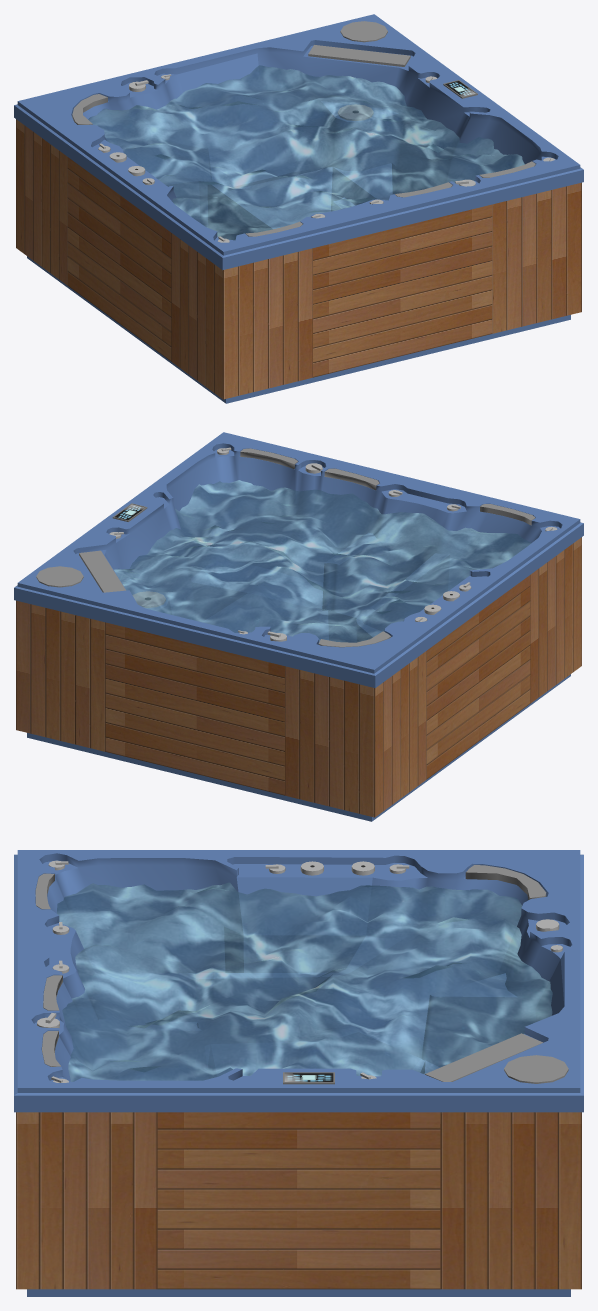
The model's file is sweethome3d-scopia-jacuzzi-158.glb.
3 renders of one model, top to bottom at view 1: azimuth 30°, elevation 25°; view 2: azimuth 150°, elevation 25°; view 3: azimuth 270°, elevation 25°, orthographic. The views are drawn at different scales.
Parts seen in each view (by area): view 1: Cube.001, Cube.006, Plane.001, Cube, Cylinder.002_Cylinder.003, Cube.004, Cube.002; view 2: Cube.001, Cube.006, Plane.001, Cube.004, Cube, Cylinder.002_Cylinder.003, Cube.003; view 3: Cube.001, Cube.006, Plane.001, Cube, Cylinder.002_Cylinder.003, Cube.002, Cube.004, Cube.005.
Boxes of the visible parts, box(x1,y1,x2,y2) form: Cube.001: box(14, 14, 583, 403); Cube.006: box(16, 119, 581, 399); Plane.001: box(88, 65, 524, 240); Cube: box(308, 45, 410, 66); Cylinder.002_Cylinder.003: box(340, 21, 387, 42); Cube.004: box(395, 161, 535, 197); Cube.002: box(72, 94, 107, 124); Cube.001: box(14, 432, 583, 821); Cube.006: box(16, 537, 581, 817); Plane.001: box(114, 480, 530, 642); Cube.004: box(240, 448, 379, 490); Cube: box(79, 550, 125, 592); Cylinder.002_Cylinder.003: box(36, 566, 83, 587); Cube.003: box(480, 504, 535, 525); Cube.001: box(14, 850, 583, 1296); Cube.006: box(16, 1112, 581, 1289); Plane.001: box(57, 882, 552, 1081); Cube: box(425, 1033, 543, 1081); Cylinder.002_Cylinder.003: box(504, 1055, 568, 1083); Cube.002: box(465, 865, 546, 899); Cube.004: box(42, 975, 62, 1066); Cube.005: box(283, 1072, 334, 1084).
Bounding box in the file's own units: 228 × 94.77 × 228.
10 materials, 3 textured.
